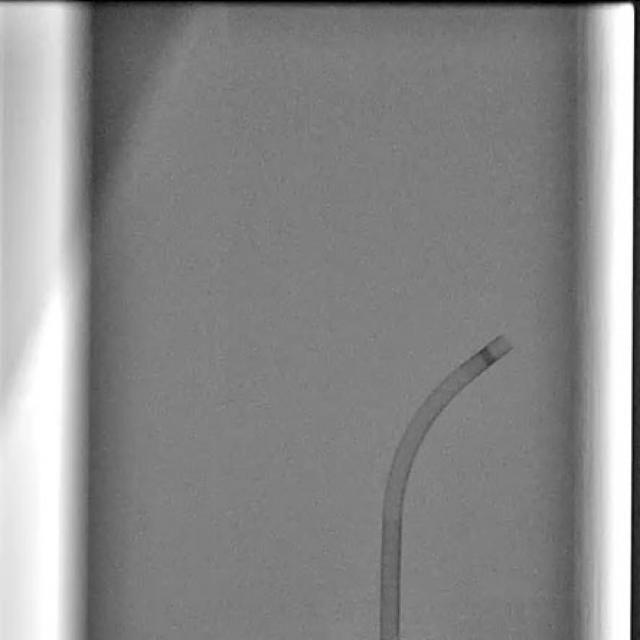bend: (382, 510, 402, 521)
entry: (381, 634, 399, 640)
marker: (479, 346, 497, 366)
tip: (497, 336, 512, 351)
